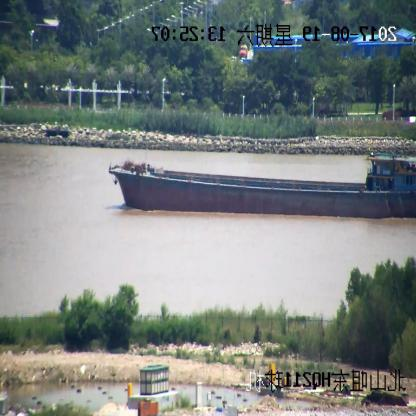Bulk Carrier: (110, 152, 415, 220)
